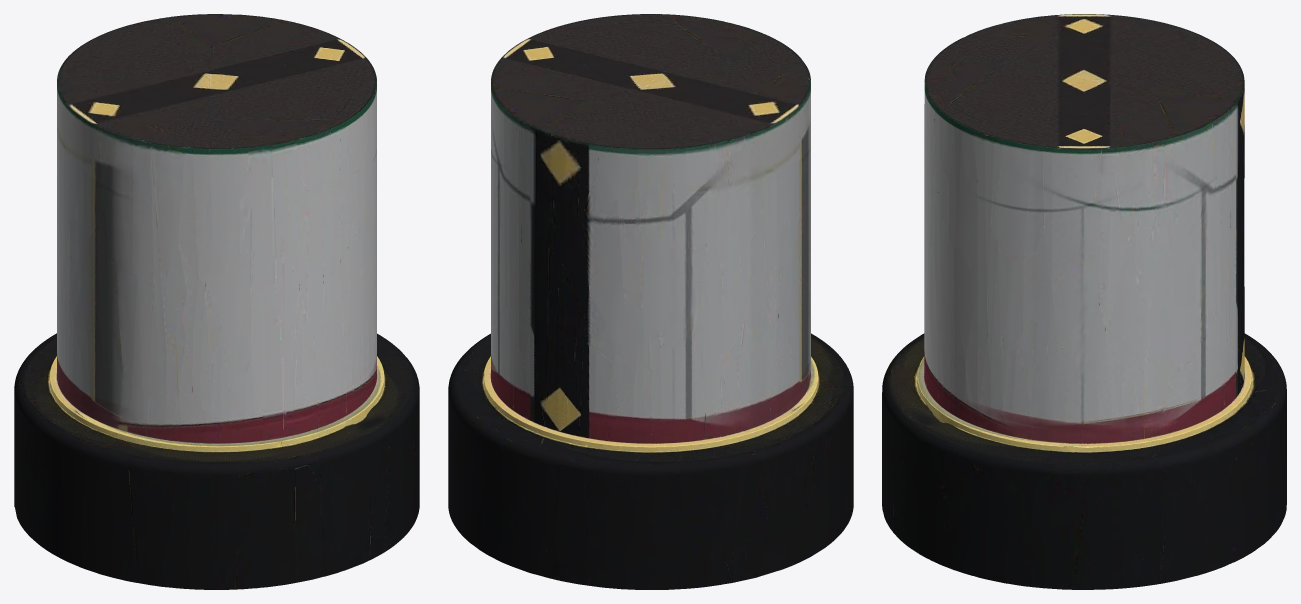
File: jewelVitrine.glb
3 renders of one model, left to right at view 1: azimuth 30°, elevation 25°; view 2: azimuth 150°, elevation 25°; view 3: azimuth 270°, elevation 25°, orthographic.
Size of the model in its own units: 1.65 by 1.9 by 1.65.
Materials: 1 (1 with a texture image).
